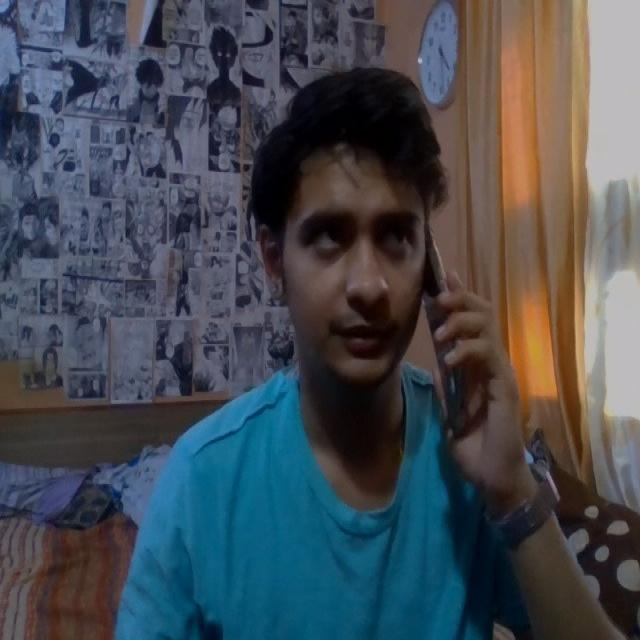oncall: (218, 68, 516, 484)
phone: (407, 229, 483, 434)
